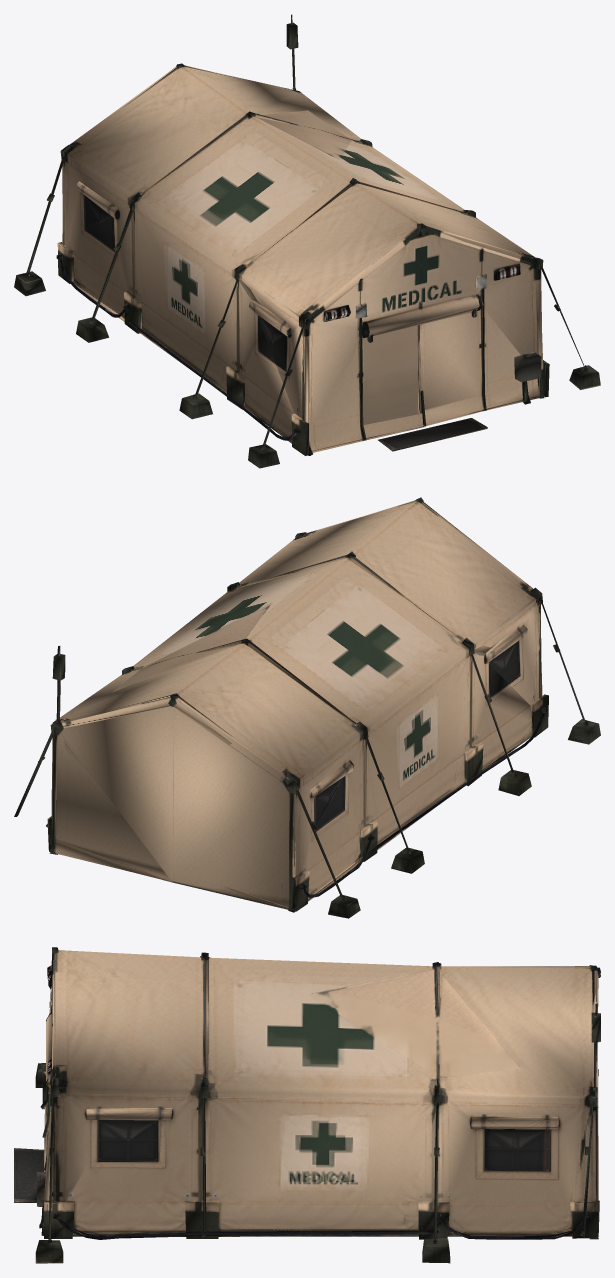
File: Meshy_AI_Field_Medical_Tent_0907133204_texture.fbx
3 renders of one model, top to bottom at view 1: azimuth 30°, elevation 25°; view 2: azimuth 150°, elevation 25°; view 3: azimuth 270°, elevation 25°, orthographic. The views are drawn at different scales.
Parts seen in each view (by area): view 1: mesh_node; view 2: mesh_node; view 3: mesh_node.
Part boxes in pixels (x1=…): mesh_node: x1=14, y1=14, x2=600, y2=468; mesh_node: x1=14, y1=497, x2=600, y2=918; mesh_node: x1=14, y1=947, x2=600, y2=1263.
Size of the model in its own units: 75.2 by 43.95 by 99.8.
Materials: 1 (1 with a texture image).
